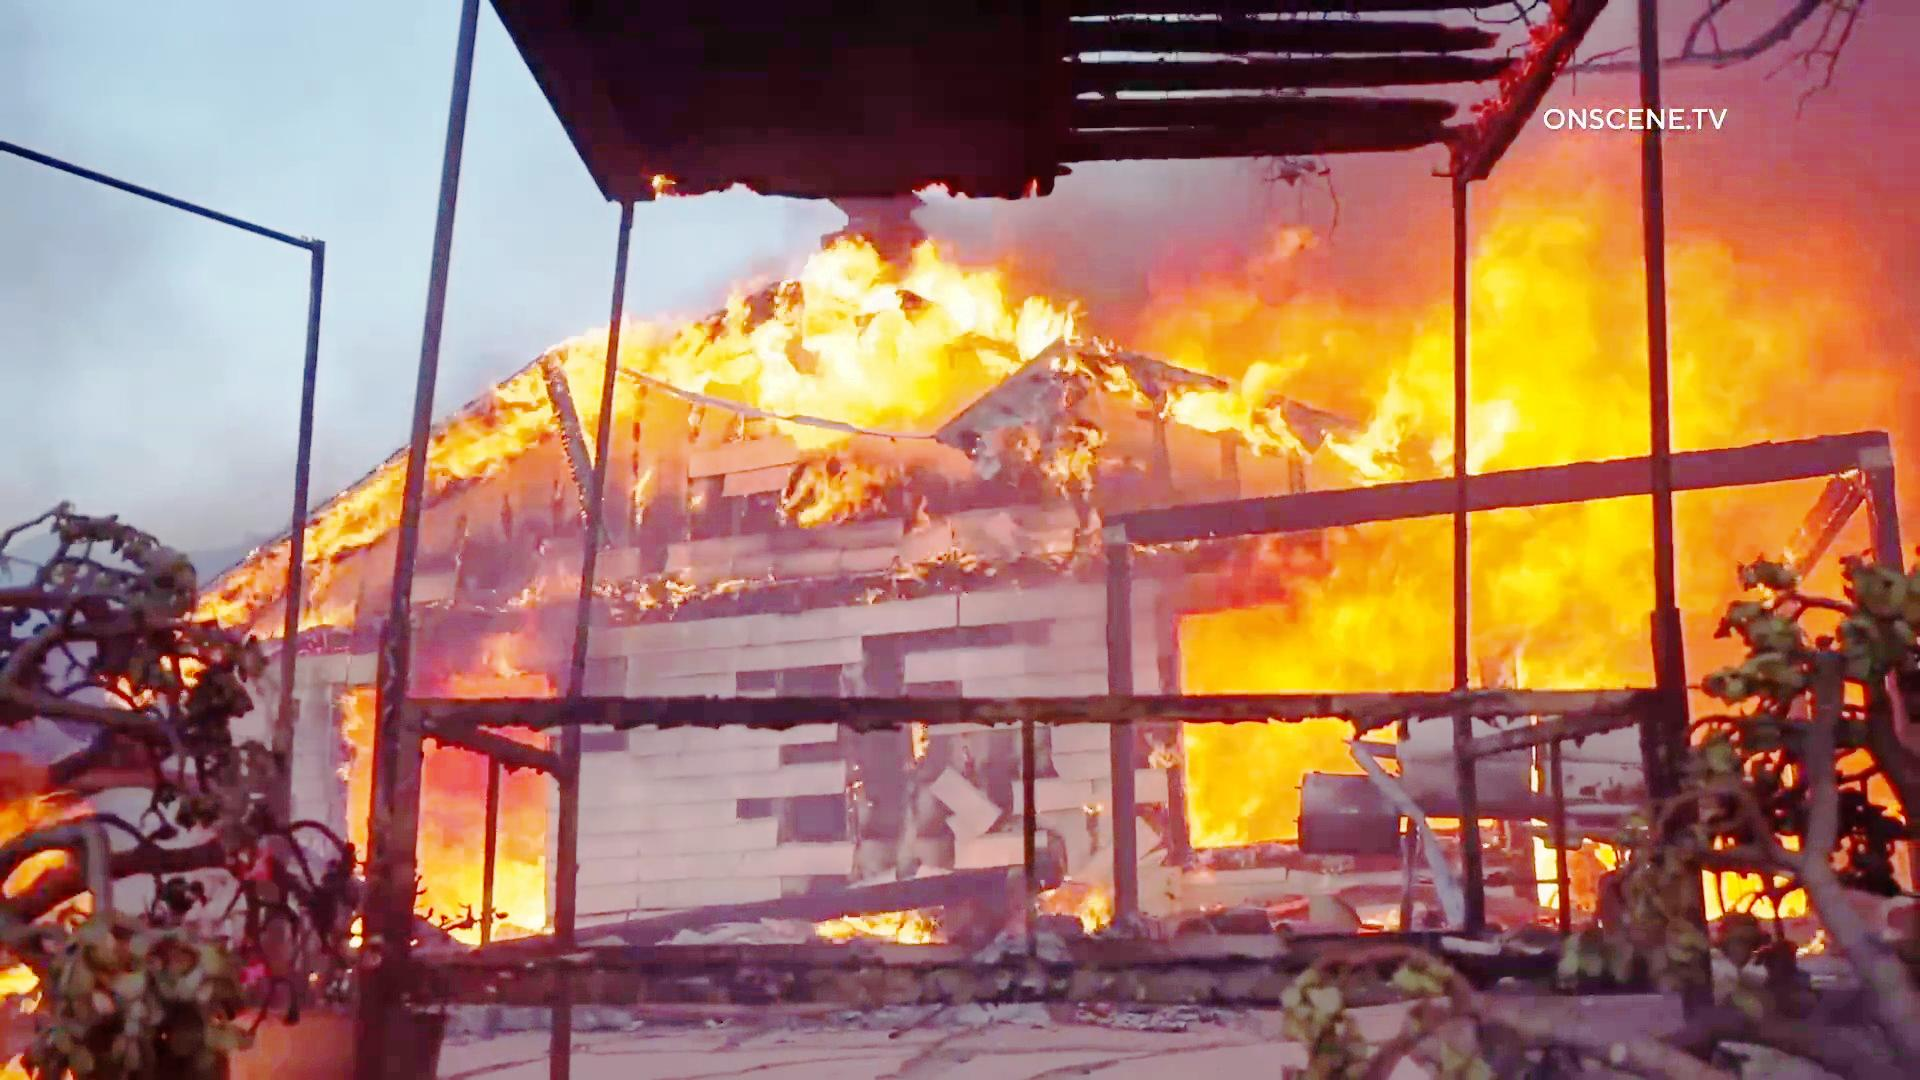fire: (1395, 173, 1887, 452), (1329, 493, 1796, 682), (646, 203, 1044, 414)
